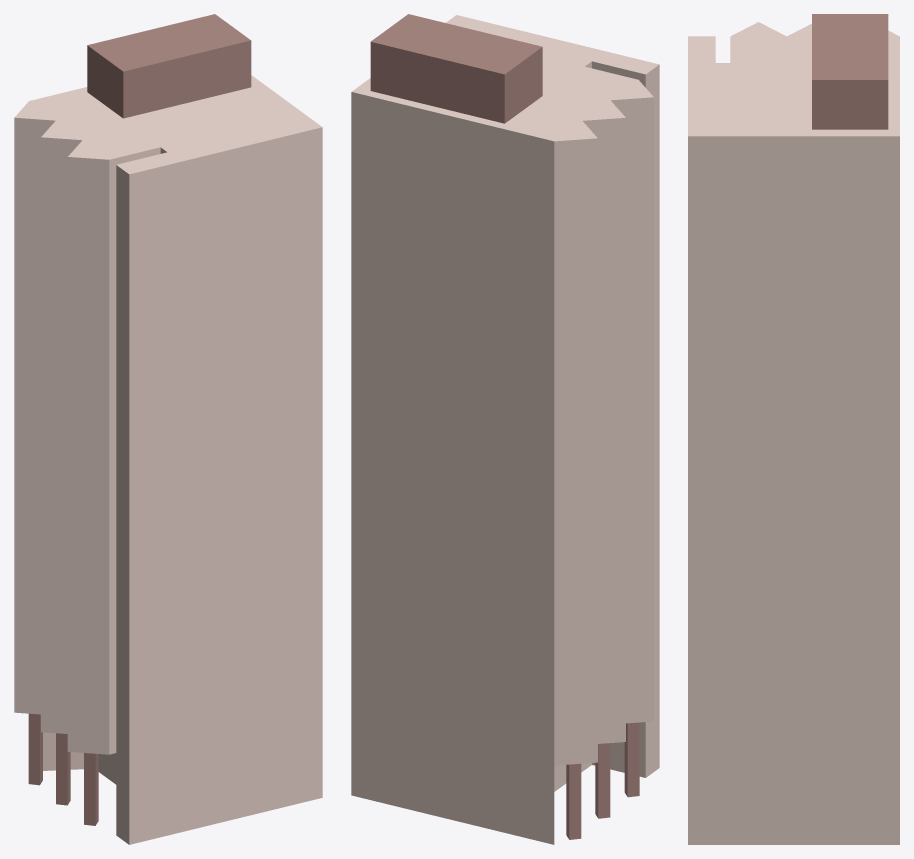
The model's file is Edificio011.FBX.
3 renders of one model, left to right at view 1: azimuth 30°, elevation 25°; view 2: azimuth 150°, elevation 25°; view 3: azimuth 270°, elevation 25°, orthographic. The views are drawn at different scales.
Parts seen in each view (by area): view 1: Edificio011; view 2: Edificio011; view 3: Edificio011.
Part boxes in pixels (<box>): Edificio011: <box>14,14,322,844</box>; Edificio011: <box>351,14,659,844</box>; Edificio011: <box>688,14,899,844</box>.
Bounding box in the file's own units: 759 × 2348 × 594.
